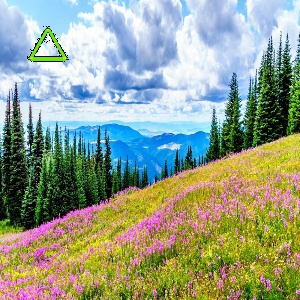triangle: (24, 23, 71, 63)
